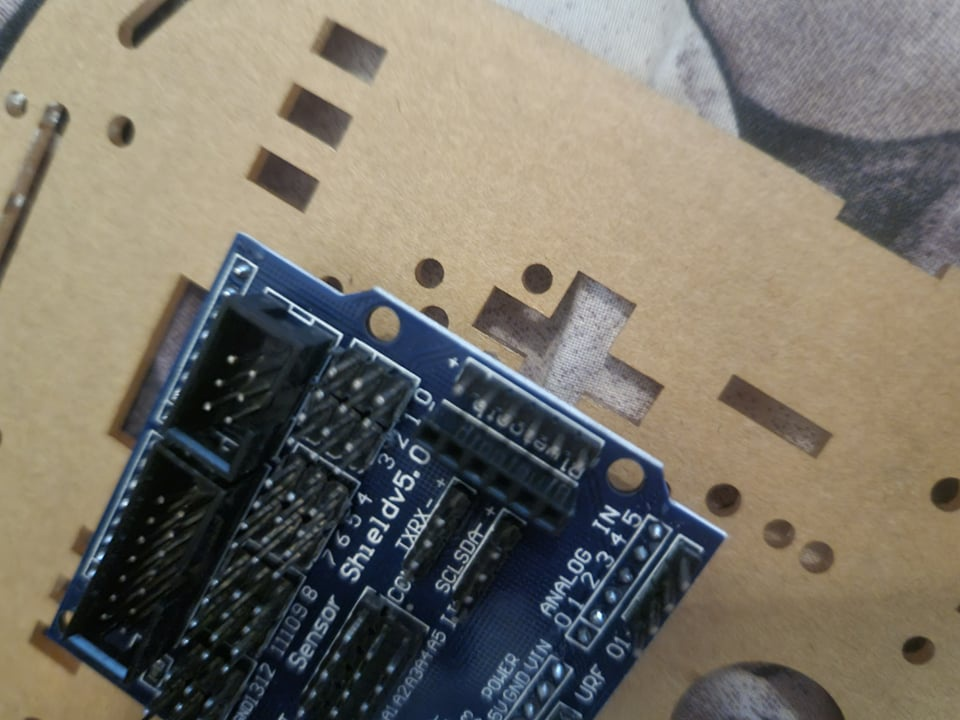5V EXPANSION: (41, 232, 729, 720)
